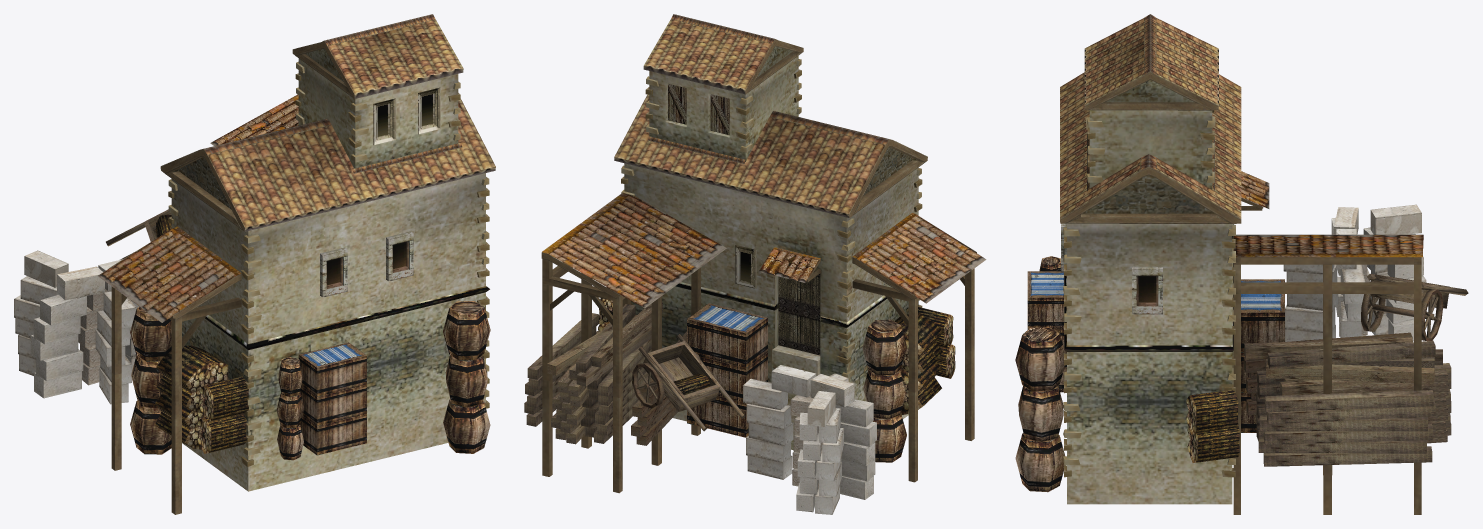
The model's file is storehouse.glb.
3 renders of one model, left to right at view 1: azimuth 30°, elevation 25°; view 2: azimuth 150°, elevation 25°; view 3: azimuth 270°, elevation 25°, orthographic. The views are drawn at different scales.
Visible parts, largest first — view 1: storehouse_part0, storehouse_part3, storehouse_part1, storehouse_part2, storehouse_part4; view 2: storehouse_part0, storehouse_part3, storehouse_part2, storehouse_part4, storehouse_part1; view 3: storehouse_part0, storehouse_part4, storehouse_part3, storehouse_part1, storehouse_part2.
Part boxes in pixels (x1=…): storehouse_part0: x1=108, y1=14, x2=495, y2=514; storehouse_part3: x1=130, y1=87, x2=490, y2=460; storehouse_part1: x1=14, y1=250, x2=138, y2=404; storehouse_part2: x1=98, y1=94, x2=298, y2=322; storehouse_part4: x1=106, y1=209, x2=171, y2=259; storehouse_part0: x1=541, y1=14, x2=976, y2=493; storehouse_part3: x1=598, y1=83, x2=955, y2=462; storehouse_part2: x1=542, y1=192, x2=986, y2=308; storehouse_part4: x1=524, y1=302, x2=745, y2=445; storehouse_part1: x1=743, y1=365, x2=876, y2=514; storehouse_part0: x1=1060, y1=14, x2=1421, y2=514; storehouse_part4: x1=1243, y1=273, x2=1468, y2=466; storehouse_part3: x1=1015, y1=223, x2=1436, y2=492; storehouse_part1: x1=1283, y1=204, x2=1426, y2=341; storehouse_part2: x1=1233, y1=171, x2=1423, y2=257.
Size of the model in its own units: 3.31 by 3.63 by 3.4.
Materials: 5 (5 with a texture image).
